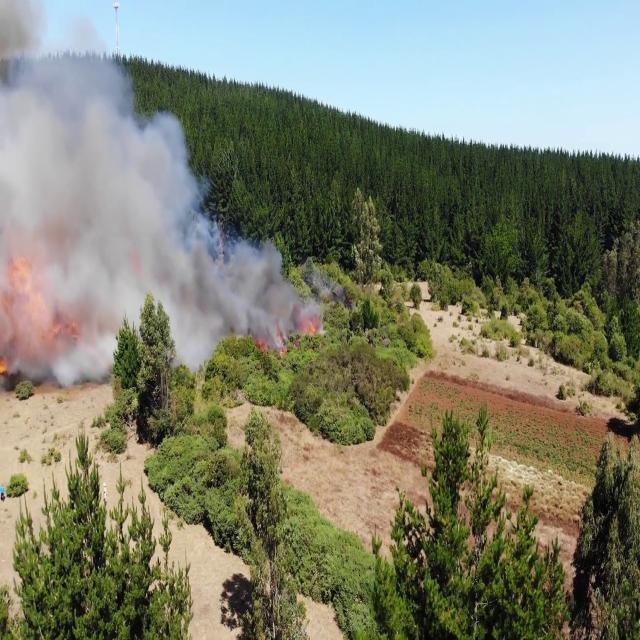Smoke: (0, 2, 181, 384), (180, 206, 319, 350)
